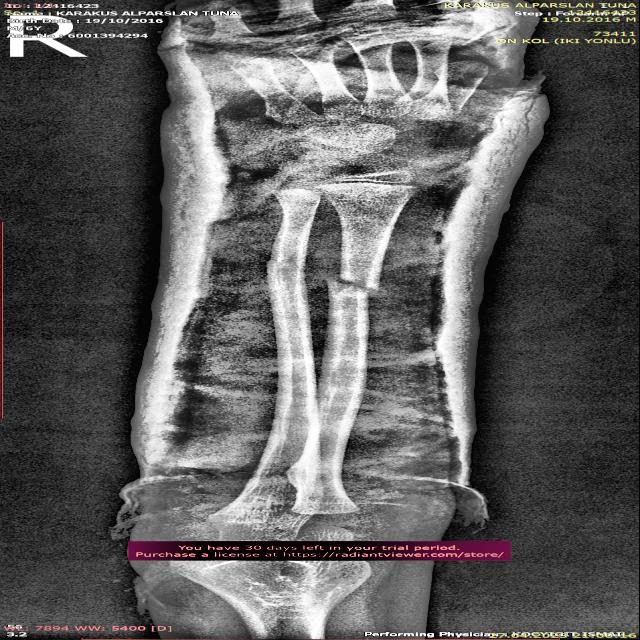Fracture: (322, 270, 386, 298), (261, 254, 311, 276)
